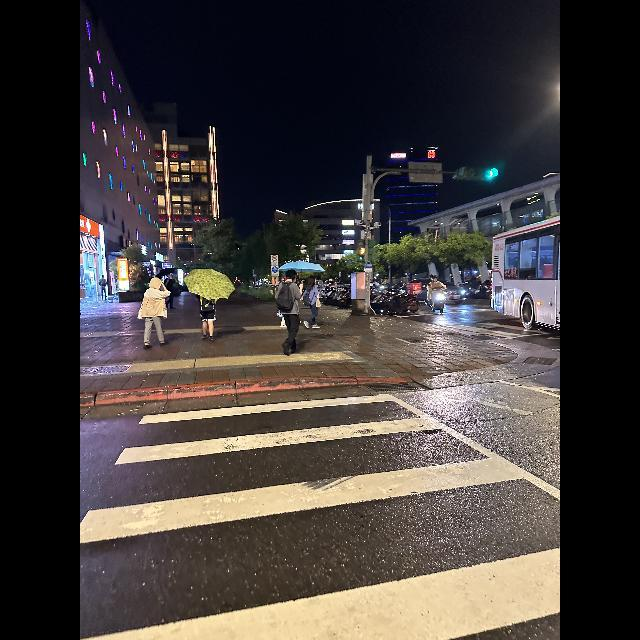sidewalk: (80, 395, 560, 640)
